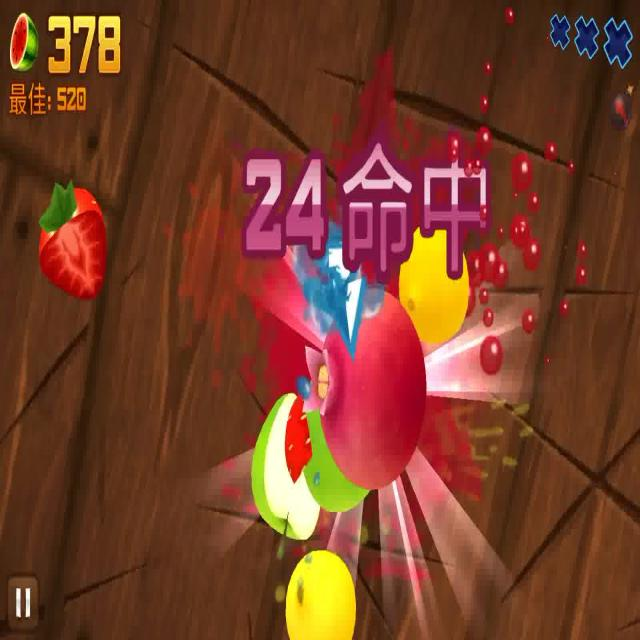fruit: (308, 288, 429, 480), (254, 395, 323, 544), (397, 220, 475, 339), (36, 186, 108, 296), (282, 551, 361, 640), (301, 413, 375, 507)
